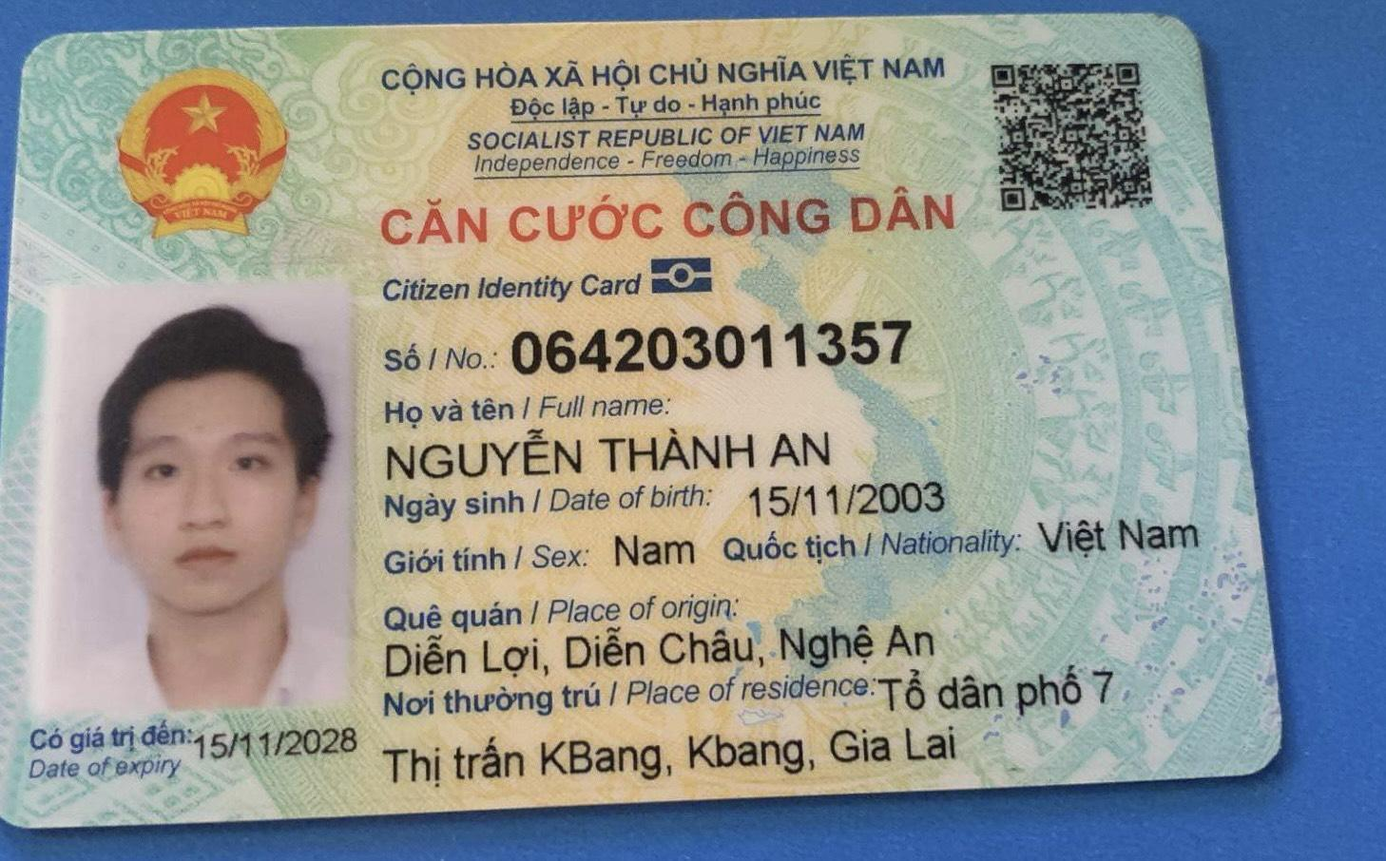ID: (499, 309, 934, 383)
birth: (745, 471, 965, 523)
name: (374, 421, 841, 493)
place: (369, 614, 942, 687)
residence: (367, 715, 974, 795), (876, 658, 1122, 724)
